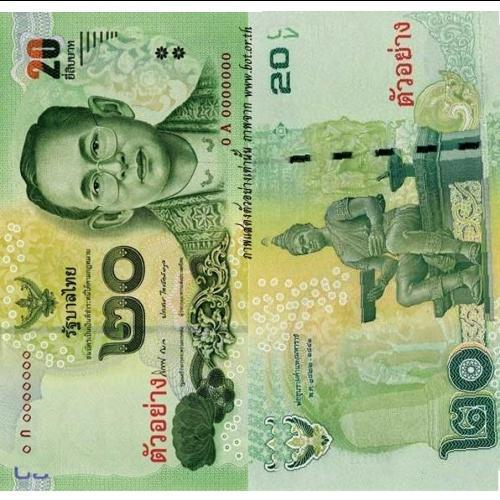20BahtTai: (255, 11, 500, 489)
